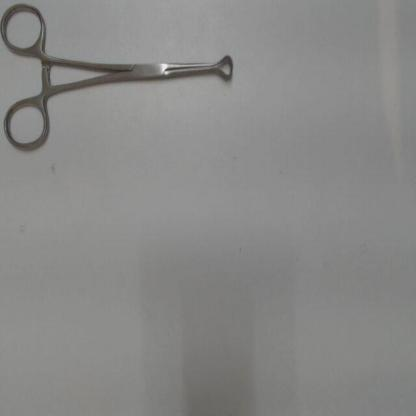Babcock Tissue Forceps: (2, 1, 240, 158)
